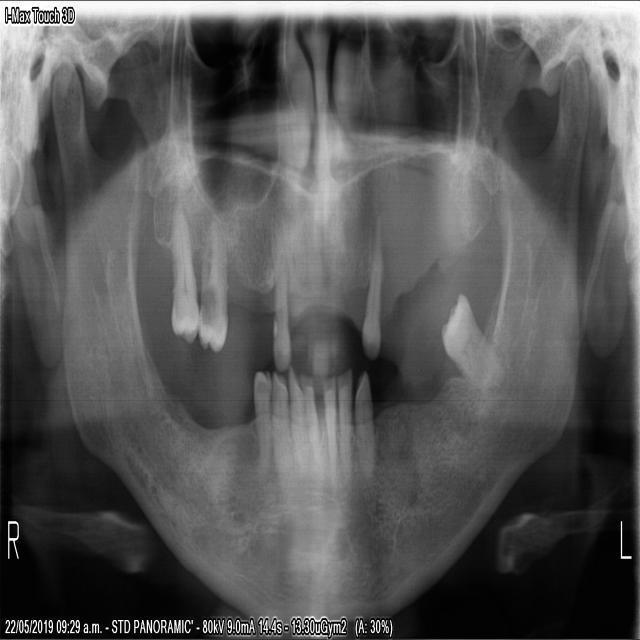LCD: (352, 361, 376, 477)
LCU: (359, 222, 382, 362)
LID: (334, 367, 354, 467), (320, 365, 336, 465)
LMD: (438, 283, 503, 399)
RCD: (270, 368, 293, 487)
RCU: (270, 254, 291, 371)
RID: (286, 366, 312, 482), (298, 367, 323, 456)
RMU: (161, 207, 200, 346), (198, 218, 229, 357)
RPMD: (250, 365, 271, 481)
